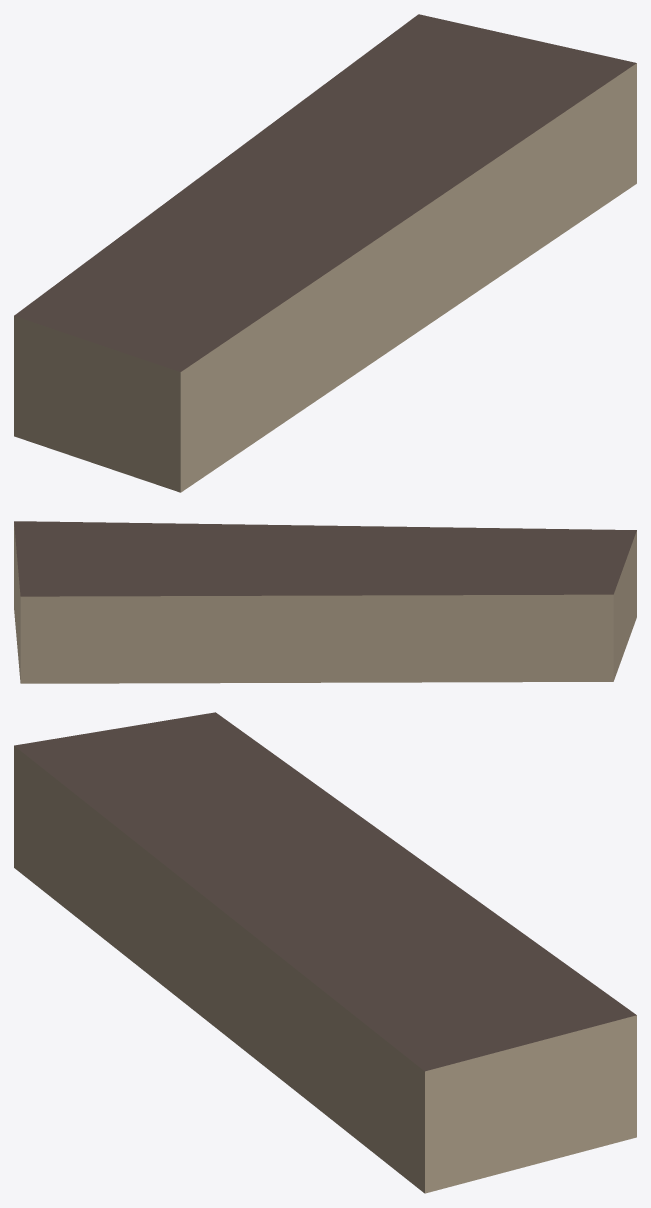
3 views of the same model, one above another, from view 1: azimuth 30°, elevation 25°; view 2: azimuth 150°, elevation 25°; view 3: azimuth 270°, elevation 25° (orthographic). The views are drawn at different scales.
Parts seen in each view (by area): view 1: HP-w1512359824; view 2: HP-w1512359824; view 3: HP-w1512359824.
Boxes of the visible parts, x1,y1,x2,y2 form: HP-w1512359824: [14, 14, 636, 492]; HP-w1512359824: [14, 521, 636, 683]; HP-w1512359824: [14, 712, 636, 1193].
Size of the model in its own units: 56.71 by 9 by 41.58.
